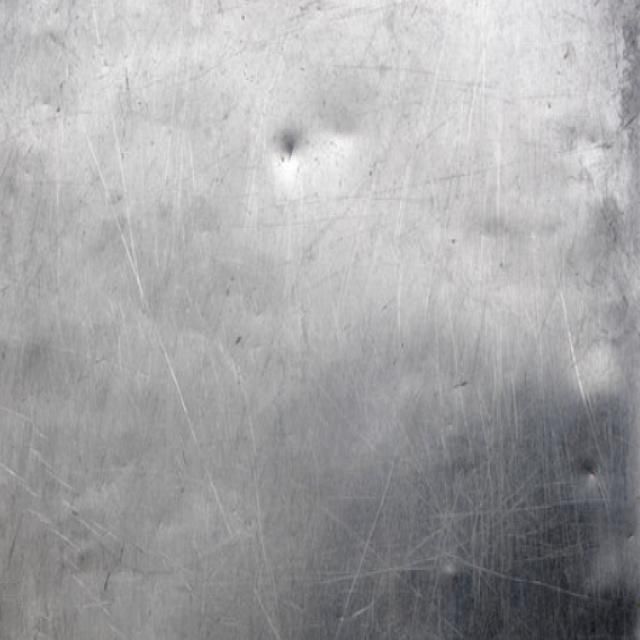dents: (247, 109, 343, 206), (555, 436, 612, 513)
